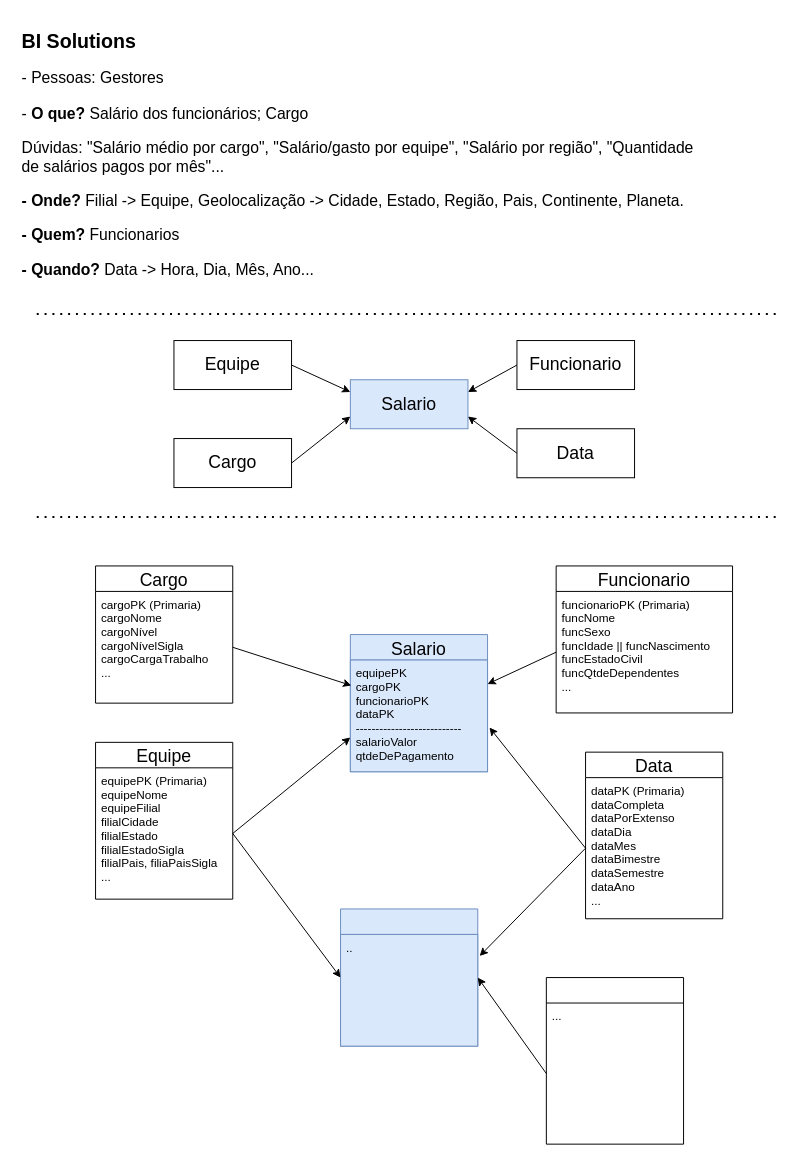
The diagram is 800 pixels wide and 1163 high, and some of its shapes have lost their labels. Here are the shapes that lost their labels. From the top down, the box of each, then its label:
(340, 908, 478, 1046): Receita
(545, 977, 684, 1144): Cliente
